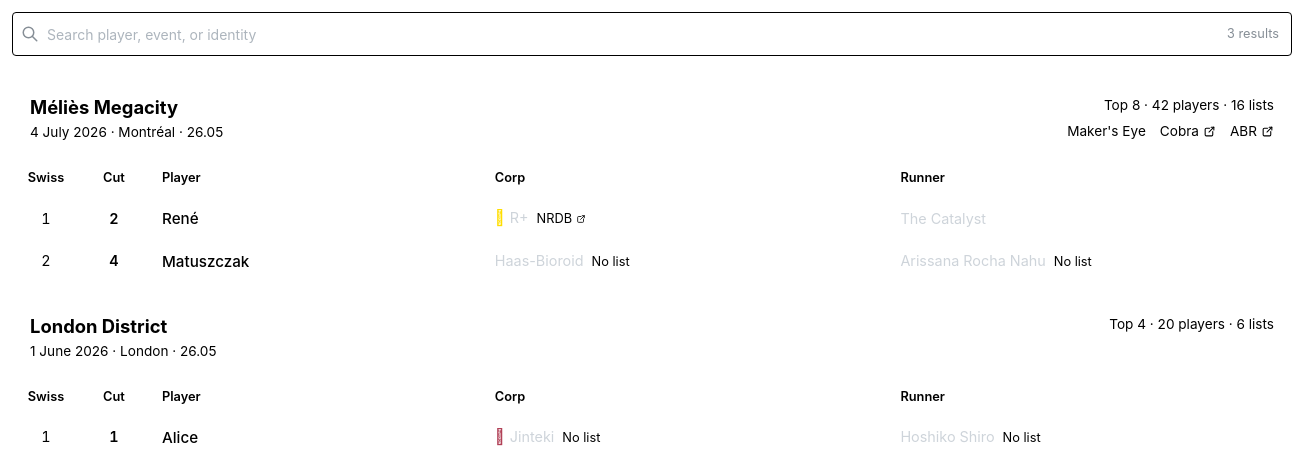
CatalogClient › filters by shortened identity name
In the field named "Search tournament entrants": (652, 34) [12,12,1292,56], type "R+"
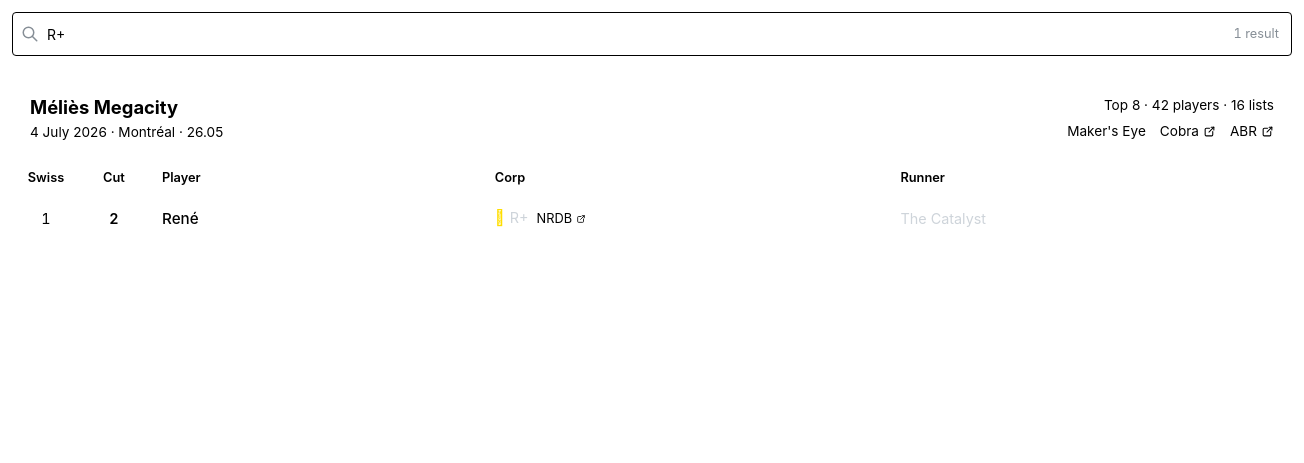
Check: the heading "Méliès Megacity" is shown, box [30,96,178,119]
Check: the heading "London District" is gone
Check: the button "Matuszczak" is gone
